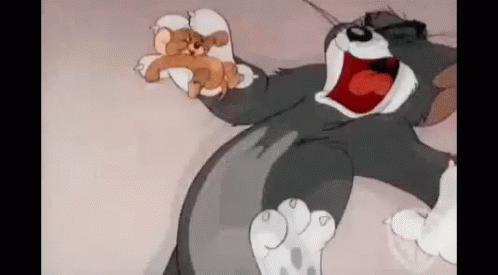jerry: (144, 26, 245, 102)
